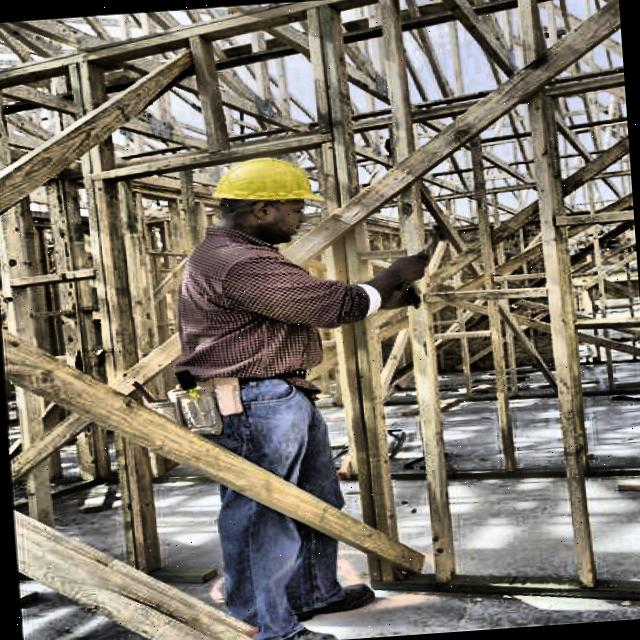helmet: (192, 143, 336, 248)
